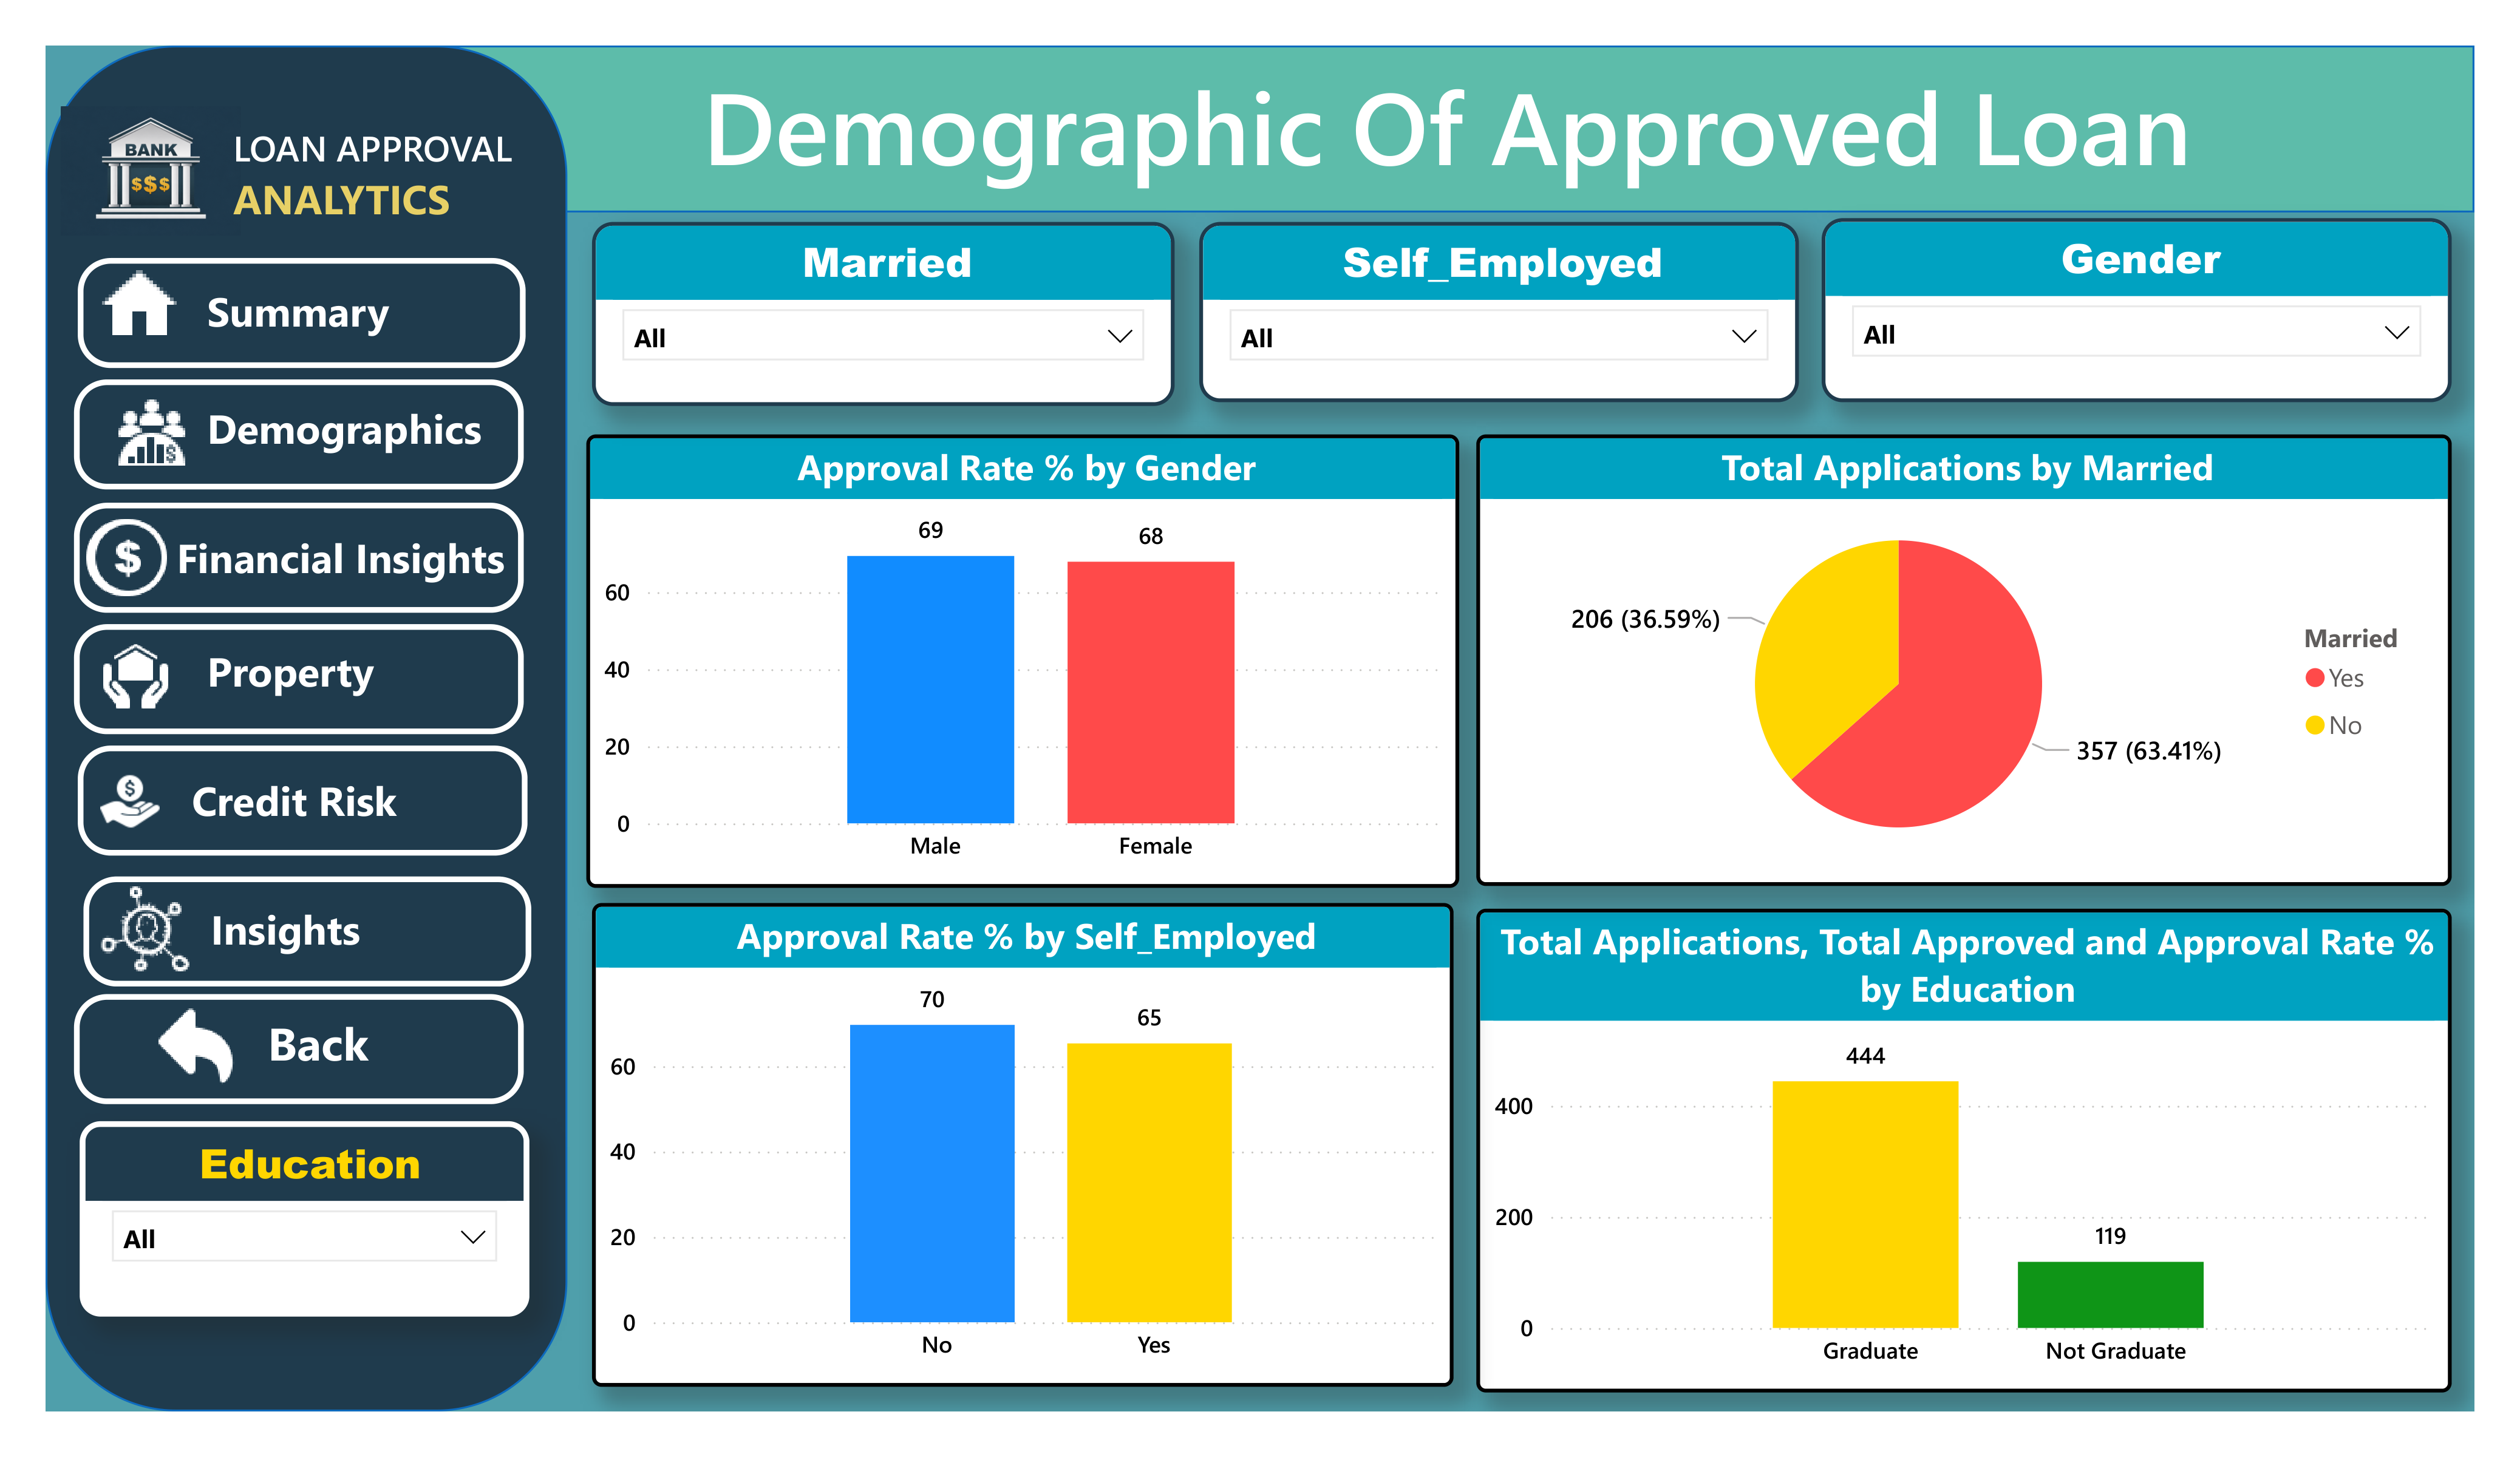

This screenshot's page, from the dashboard's own definition file:
{"tool":"powerbi","page":{"name":"Demographic","canvas":[1280,720],"ordinal":1},"visuals":[{"type":"shape","box":[78.9,0,1201.1,88],"z":0},{"type":"actionButton","box":[15.2,305.3,236.6,57.6],"z":0,"group":"g1"},{"type":"textbox","box":[197.2,0,1082.8,88],"z":1000},{"type":"textbox","box":[80.4,309.8,128.9,48.5],"z":1000,"group":"g1"},{"type":"shape","box":[0,0,274.5,720.4],"z":2000},{"type":"image","box":[3,6.1,104.6,119.8],"z":3000},{"type":"textbox","box":[94,36.4,172.9,63.7],"z":4000},{"type":"actionButton","box":[16.7,112.2,236.6,57.6],"z":5000},{"type":"image","box":[22.7,107.7,53.1,57.6],"z":6000},{"type":"textbox","box":[80.4,119.8,130.4,45.5],"z":7000},{"type":"actionButton","box":[15.2,175.9,236.6,57.6],"z":8000},{"type":"image","box":[25.8,179,60.7,50],"z":9000},{"type":"textbox","box":[80.4,182,159.2,44],"z":10000},{"type":"actionButton","box":[15.2,241.1,236.6,57.6],"z":11000},{"type":"image","box":[15.2,241.1,56.1,57.6],"z":12000},{"type":"textbox","box":[63.7,250.2,203.2,37.9],"z":13000},{"type":"slicer","title":"Education","fields":{"Values":["l_approved.Education"]},"box":[18.2,567.2,236.6,103.1],"z":14000},{"type":"actionButton","box":[15.2,500.5,236.6,57.6],"z":15000},{"type":"textbox","box":[81.9,445.9,116.8,40.9],"z":16000},{"type":"image","box":[19.7,435.3,65.2,62.2],"z":17000},{"type":"actionButton","box":[19.7,438.3,236.6,57.6],"z":18000},{"type":"image","box":[47,495.9,63.7,63.7],"z":19000},{"type":"textbox","box":[112.2,503.5,104.6,47],"z":20000},{"type":"columnChart","fields":{"Category":["l_approved.Gender"],"Y":["l_approved.Approval Rate %"]},"box":[285.1,204.7,459.5,239.6],"z":21000},{"type":"columnChart","fields":{"Category":["l_approved.Education"],"Y":["l_approved.Total Applications"]},"box":[753.7,455,514.1,254.8],"z":22000},{"type":"pieChart","fields":{"Category":["l_approved.Married"],"Y":["l_approved.Total Applications"]},"box":[753.7,204.7,514.1,238.1],"z":23000},{"type":"columnChart","fields":{"Category":["l_approved.Self_Employed"],"Y":["l_approved.Approval Rate %"]},"box":[288.2,451.9,453.5,254.8],"z":24000},{"type":"slicer","title":"Married","fields":{"Values":["l_approved.Married"]},"box":[288.2,92.5,306.4,97.1],"z":25000},{"type":"slicer","title":"Self_Employed","fields":{"Values":["l_approved.Self_Employed"]},"box":[608.2,92.5,315.5,95.5],"z":26000},{"type":"slicer","title":"Gender","fields":{"Values":["l_approved.Gender"]},"box":[935.7,91,332.1,97.1],"z":27000},{"type":"group","id":"g1","title":"Group 1","box":[15.2,305.3,236.6,57.6],"z":28000},{"type":"group","id":"g2","title":"Group 2","box":[16.7,369,236.6,57.6],"z":29000},{"type":"image","box":[18.2,309.4,57.6,47],"z":29001},{"type":"image","box":[19.7,377.6,48.5,40.9],"z":29002},{"type":"actionButton","box":[16.7,369,236.6,57.6],"z":30008,"group":"g2"},{"type":"textbox","box":[71.3,378.1,169.9,40.9],"z":30014,"group":"g2"}]}

Visuals, with their boxes on the page's 1280x720 design canvas (x1, y1, x2, y2). These are canvas units, not pixel positions in the 2520x1457 screenshot, which may show the page scaled, cropped or inside an application window:
shape: [left=79, top=0, right=1280, bottom=88]
actionButton: [left=15, top=305, right=252, bottom=363]
textbox: [left=197, top=0, right=1280, bottom=88]
textbox: [left=80, top=310, right=209, bottom=358]
shape: [left=0, top=0, right=274, bottom=720]
image: [left=3, top=6, right=108, bottom=126]
textbox: [left=94, top=36, right=267, bottom=100]
actionButton: [left=17, top=112, right=253, bottom=170]
image: [left=23, top=108, right=76, bottom=165]
textbox: [left=80, top=120, right=211, bottom=165]
actionButton: [left=15, top=176, right=252, bottom=234]
image: [left=26, top=179, right=86, bottom=229]
textbox: [left=80, top=182, right=240, bottom=226]
actionButton: [left=15, top=241, right=252, bottom=299]
image: [left=15, top=241, right=71, bottom=299]
textbox: [left=64, top=250, right=267, bottom=288]
"Education" slicer: [left=18, top=567, right=255, bottom=670]
actionButton: [left=15, top=500, right=252, bottom=558]
textbox: [left=82, top=446, right=199, bottom=487]
image: [left=20, top=435, right=85, bottom=498]
actionButton: [left=20, top=438, right=256, bottom=496]
image: [left=47, top=496, right=111, bottom=560]
textbox: [left=112, top=504, right=217, bottom=550]
columnChart - l_approved.Gender x l_approved.Approval Rate %: [left=285, top=205, right=745, bottom=444]
columnChart - l_approved.Education x l_approved.Total Applications: [left=754, top=455, right=1268, bottom=710]
pieChart - l_approved.Married x l_approved.Total Applications: [left=754, top=205, right=1268, bottom=443]
columnChart - l_approved.Self_Employed x l_approved.Approval Rate %: [left=288, top=452, right=742, bottom=707]
"Married" slicer: [left=288, top=92, right=595, bottom=190]
"Self_Employed" slicer: [left=608, top=92, right=924, bottom=188]
"Gender" slicer: [left=936, top=91, right=1268, bottom=188]
"Group 1" group: [left=15, top=305, right=252, bottom=363]
"Group 2" group: [left=17, top=369, right=253, bottom=427]
image: [left=18, top=309, right=76, bottom=356]
image: [left=20, top=378, right=68, bottom=418]
actionButton: [left=17, top=369, right=253, bottom=427]
textbox: [left=71, top=378, right=241, bottom=419]
